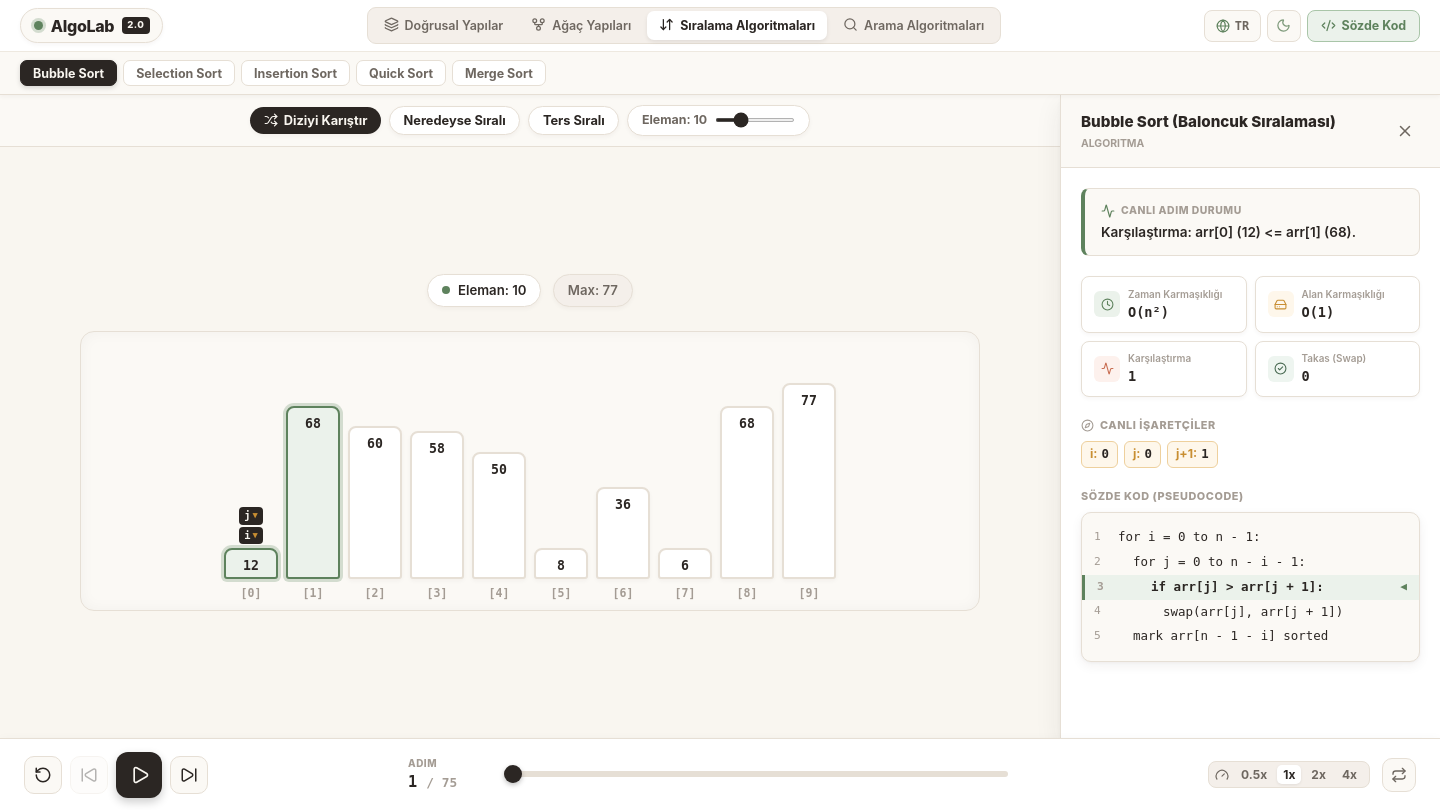
App End-to-End Component & Architectural Integration Tests › 4. Reset (Başa Dön) Kullanıcı Akışı › İlerleyen adımlarda Reset tıklandığında 0. adıma dönmeli
What coordinates should you click on to do the following:
click the button titled "Bir Adım İleri"
I would click on:
 (189, 774)
Its box is [170,756,208,794].
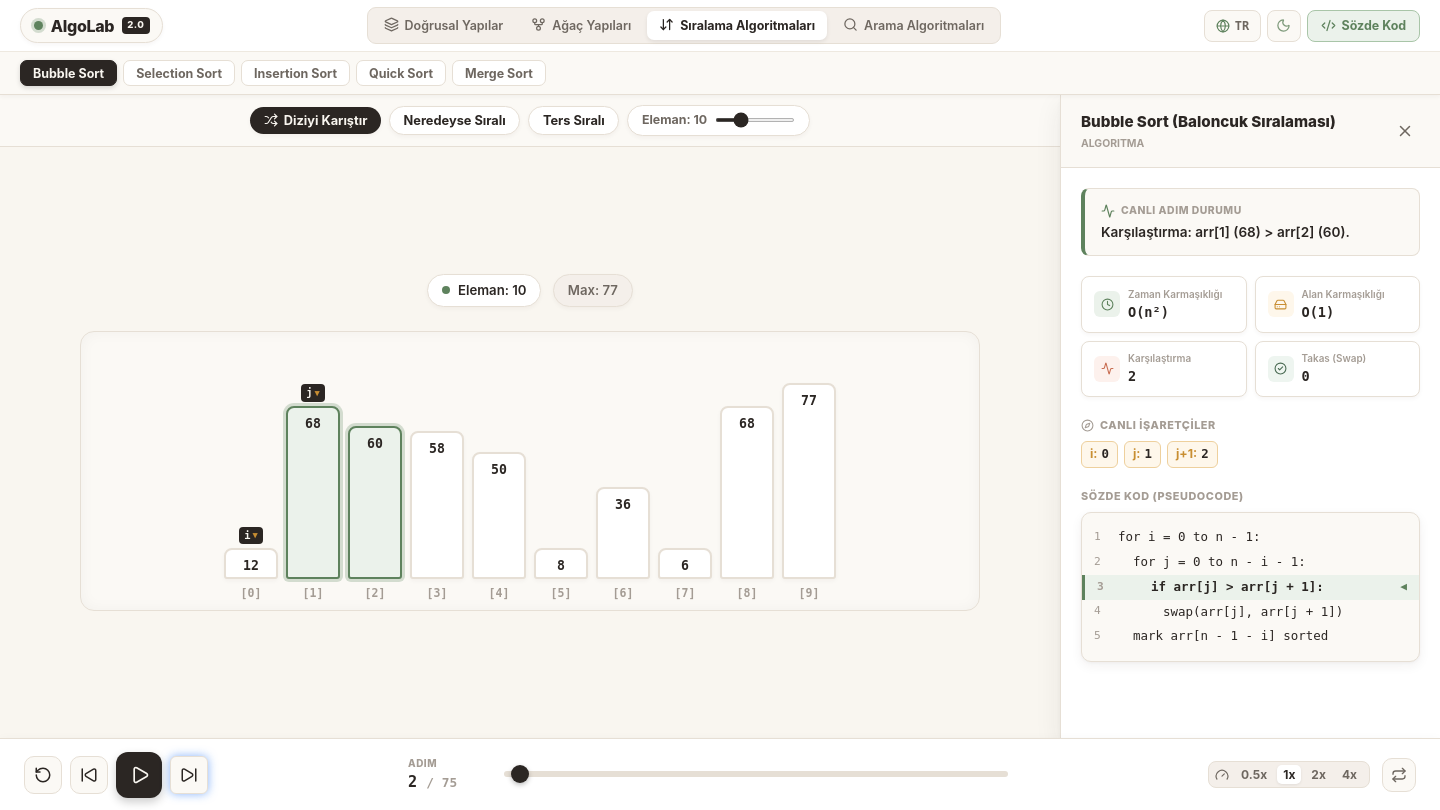
What coordinates should you click on to do the following:
click the button titled "Bir Adım İleri"
I would click on:
 (189, 774)
Its box is [170,756,208,794].
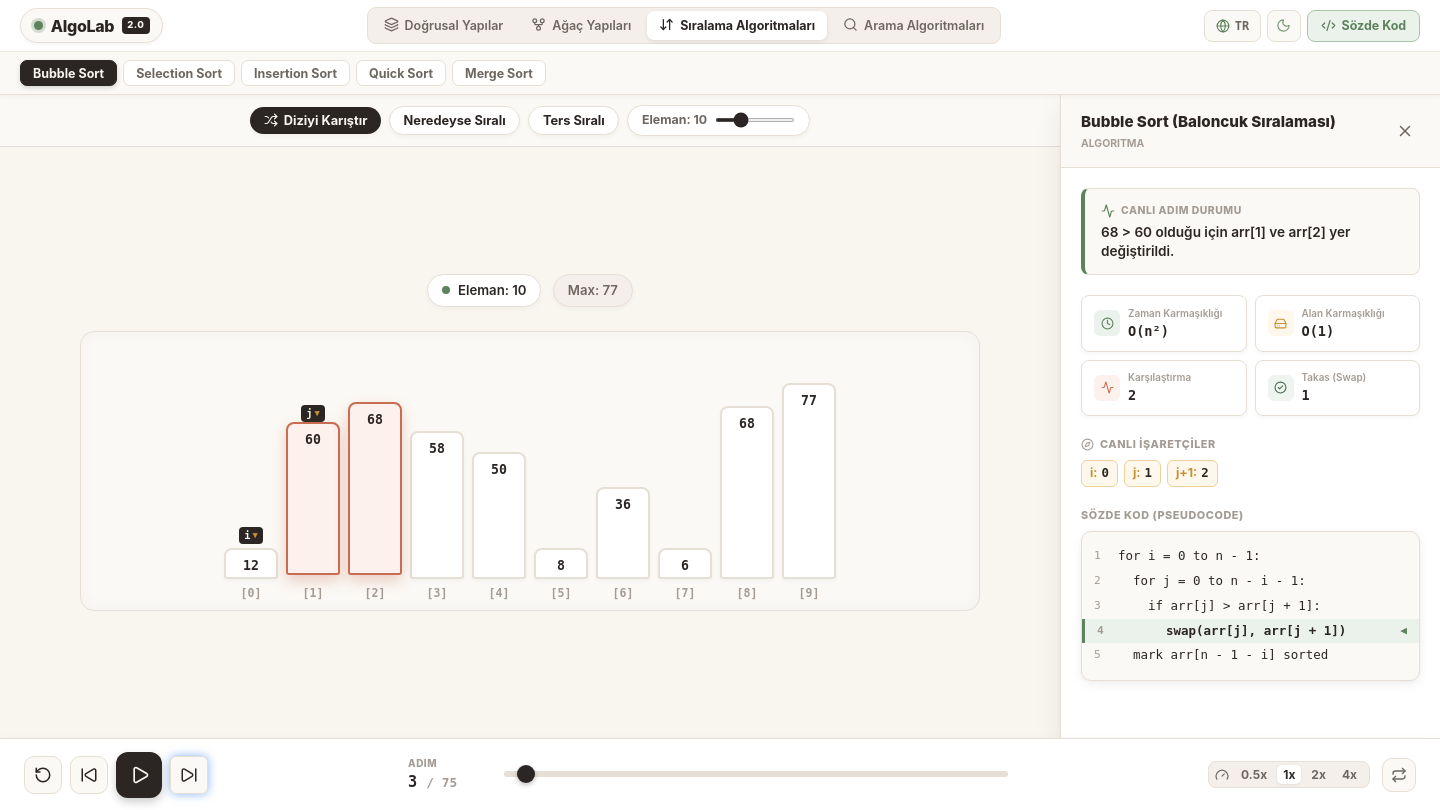
What coordinates should you click on to do the following:
click the button titled "Başa Dön"
I would click on:
 (43, 774)
Its box is [24,756,62,794].
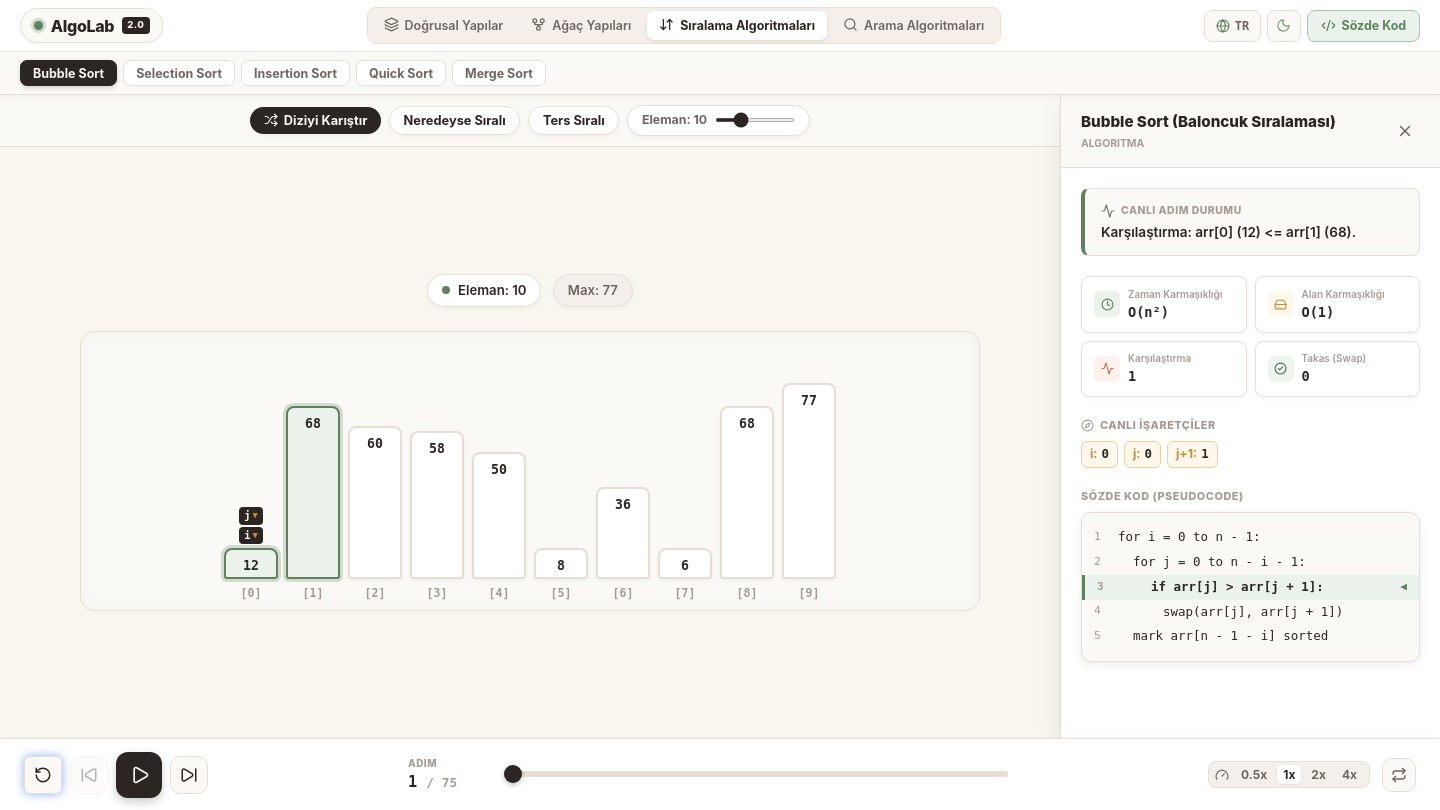
Result: the button titled "Bir Adım Geri" is disabled at [70,756,108,794]
